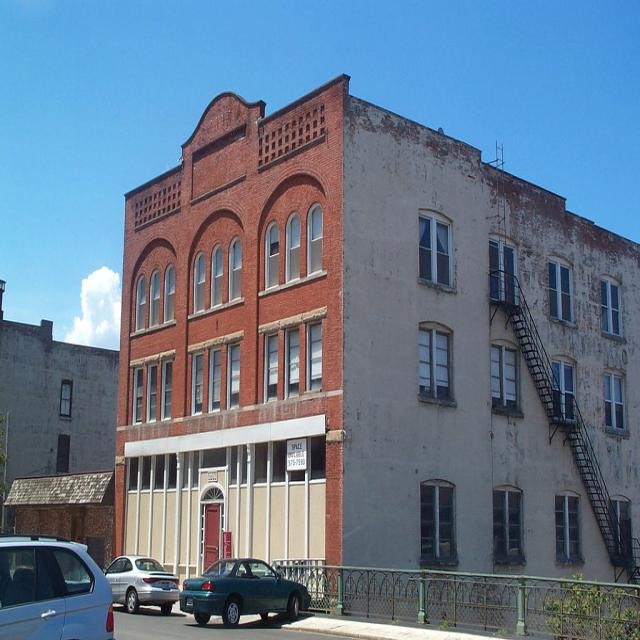no_fire: (50, 63, 617, 635)
